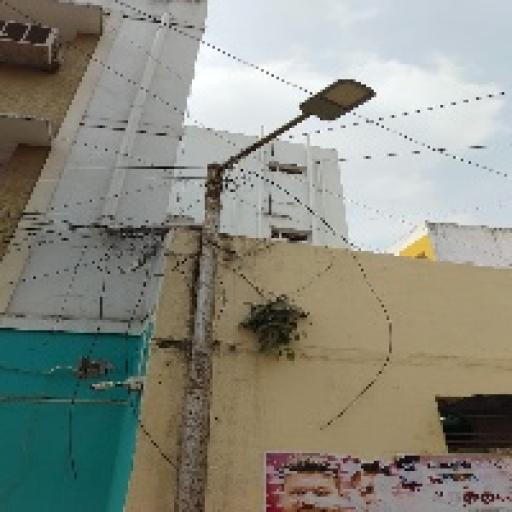Not Working: (286, 67, 376, 133)
